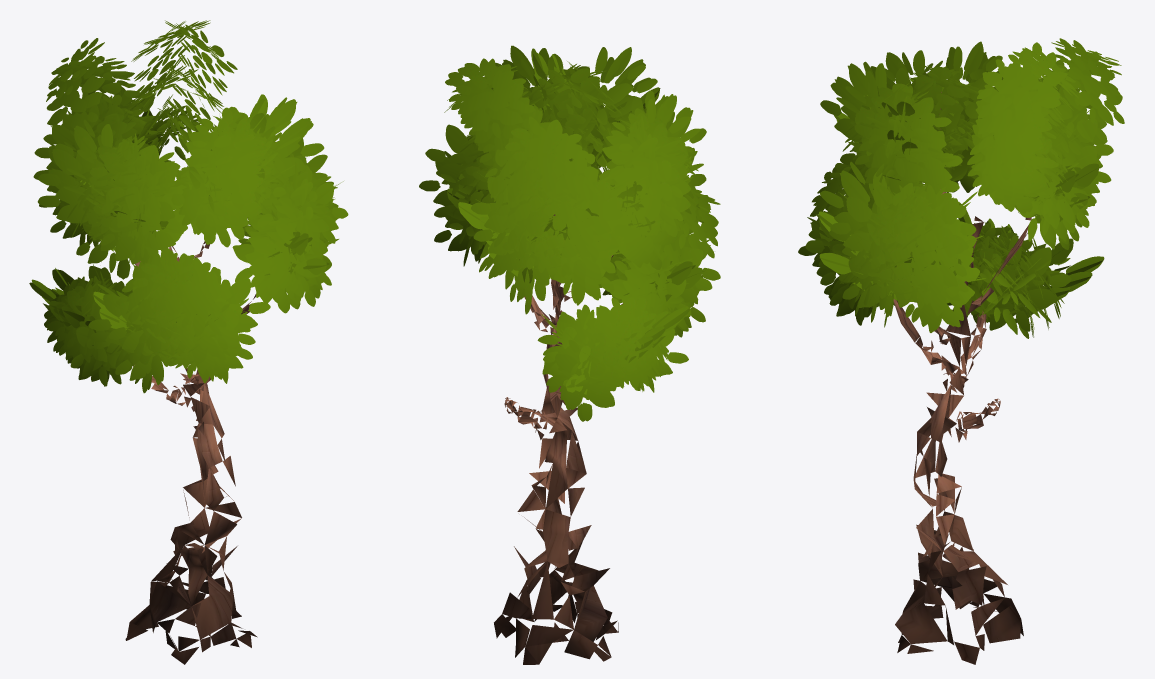
File: jati-3.glb
3 renders of one model, left to right at view 1: azimuth 30°, elevation 25°; view 2: azimuth 150°, elevation 25°; view 3: azimuth 270°, elevation 25°, orthographic. The views are drawn at different scales.
Parts seen in each view (by area): view 1: CommonTree_5; view 2: CommonTree_5; view 3: CommonTree_5.
Boxes of the visible parts, <box> form: CommonTree_5: <box>29,20,348,664</box>; CommonTree_5: <box>419,45,720,664</box>; CommonTree_5: <box>798,38,1124,664</box>.
Bounding box in the file's own units: 5.64 × 10.61 × 5.67.
Materials: 2 (2 with a texture image).
